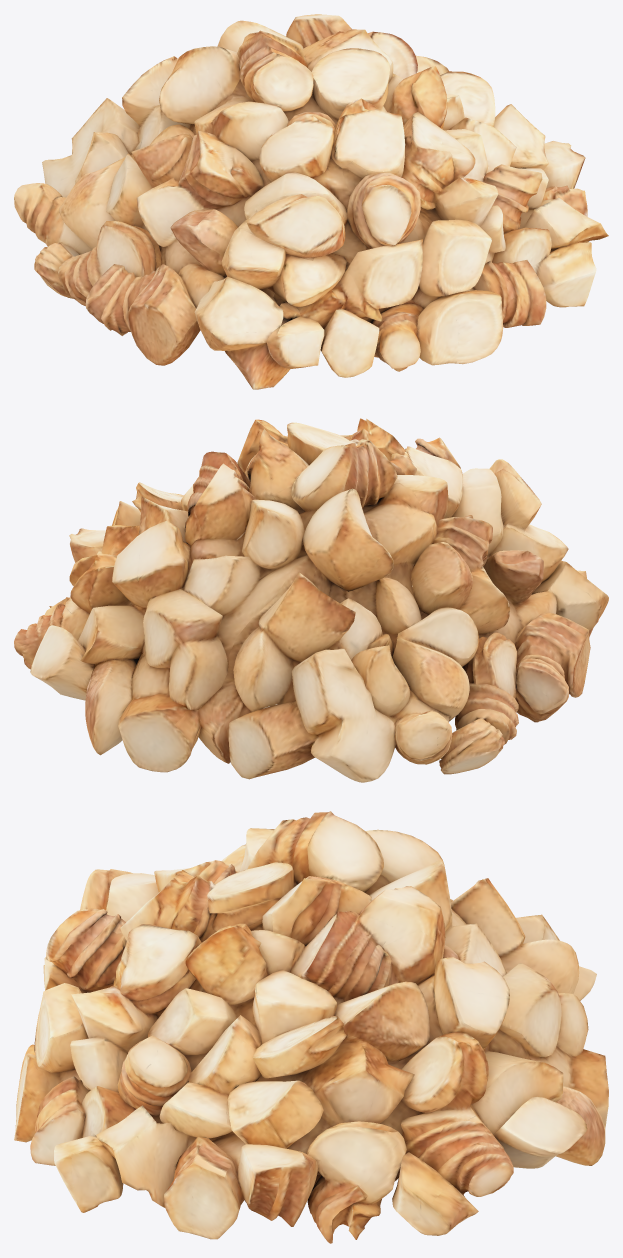
Rendered from lod_basic_shaded.fbx.
3 views of the same model, one above another, from view 1: azimuth 30°, elevation 25°; view 2: azimuth 150°, elevation 25°; view 3: azimuth 270°, elevation 25° (orthographic). The views are drawn at different scales.
Parts seen in each view (by area): view 1: model_LOD0; view 2: model_LOD0; view 3: model_LOD0.
Boxes of the visible parts, left/top/right/bottom form: model_LOD0: left=14, top=14, right=608, bottom=389; model_LOD0: left=14, top=418, right=608, bottom=782; model_LOD0: left=14, top=811, right=608, bottom=1243.
Size of what is drawn, in the model's own units: 191 by 95.75 by 177.
